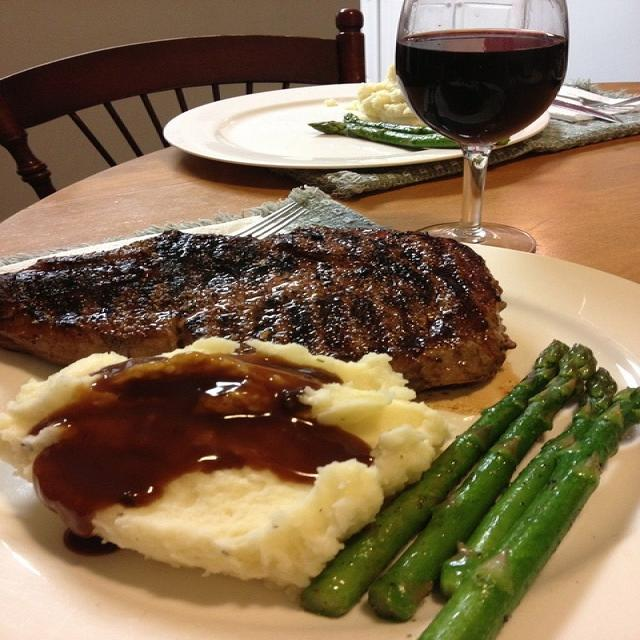asparagus: (302, 340, 569, 616), (368, 344, 595, 620), (419, 388, 639, 639), (440, 368, 617, 596), (310, 114, 458, 149)
beef steak: (0, 226, 513, 390)
mashed potatoes: (93, 343, 448, 587), (0, 353, 123, 480), (347, 65, 423, 123)
